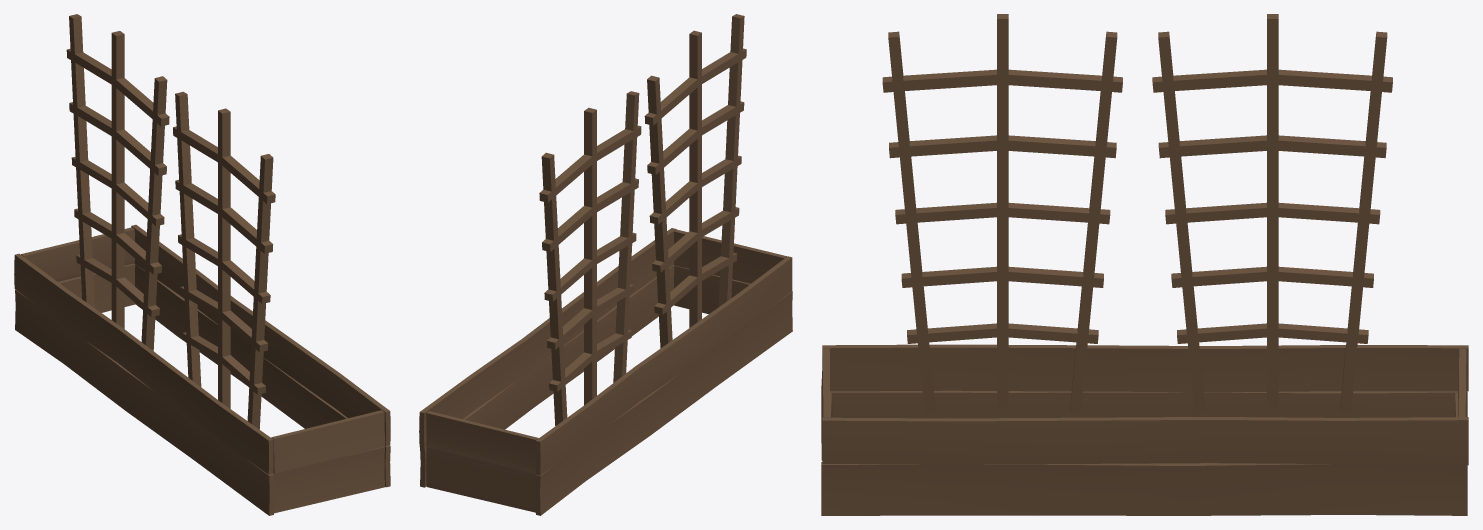
File: entwine_patch.FBX
3 renders of one model, left to right at view 1: azimuth 30°, elevation 25°; view 2: azimuth 150°, elevation 25°; view 3: azimuth 270°, elevation 25°, orthographic. The views are drawn at different scales.
Parts seen in each view (by area): view 1: Box018; view 2: Box018; view 3: Box018.
Part boxes in pixels (x1=…): Box018: x1=14, y1=14, x2=390, y2=515; Box018: x1=419, y1=14, x2=792, y2=515; Box018: x1=821, y1=14, x2=1468, y2=515.
Bounding box in the file's own units: 3.63 × 9.61 × 12.81.
